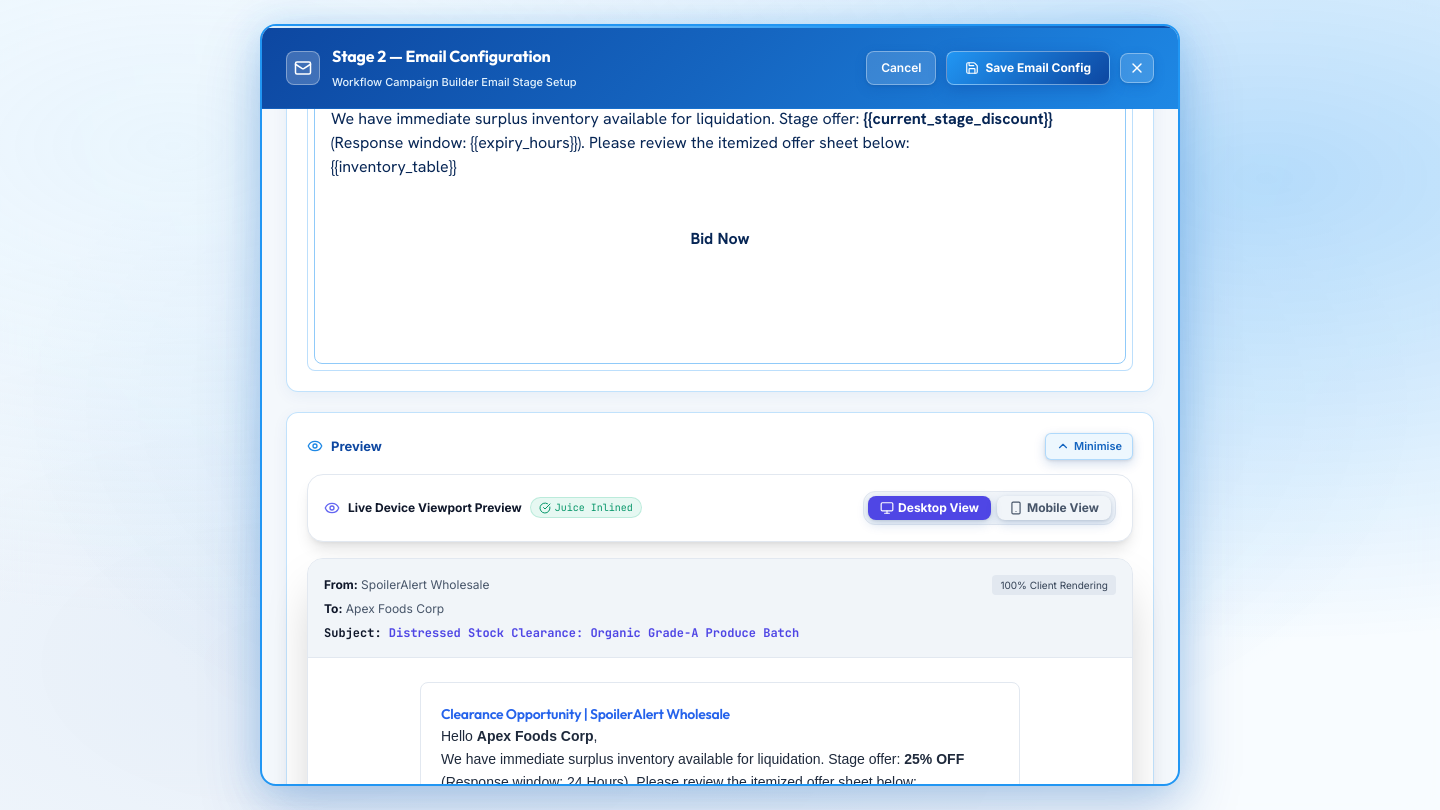
Test: StageEmailModal — Seam G: section minimise / expand toggles › minimise button toggles Preview section visibility
The image size is (1440, 810).
(page scrolled)
Note: Click to minimise
Click the button with test id "minimise-preview-btn": (1089, 446) x1=1045 y1=433 x2=1133 y2=460
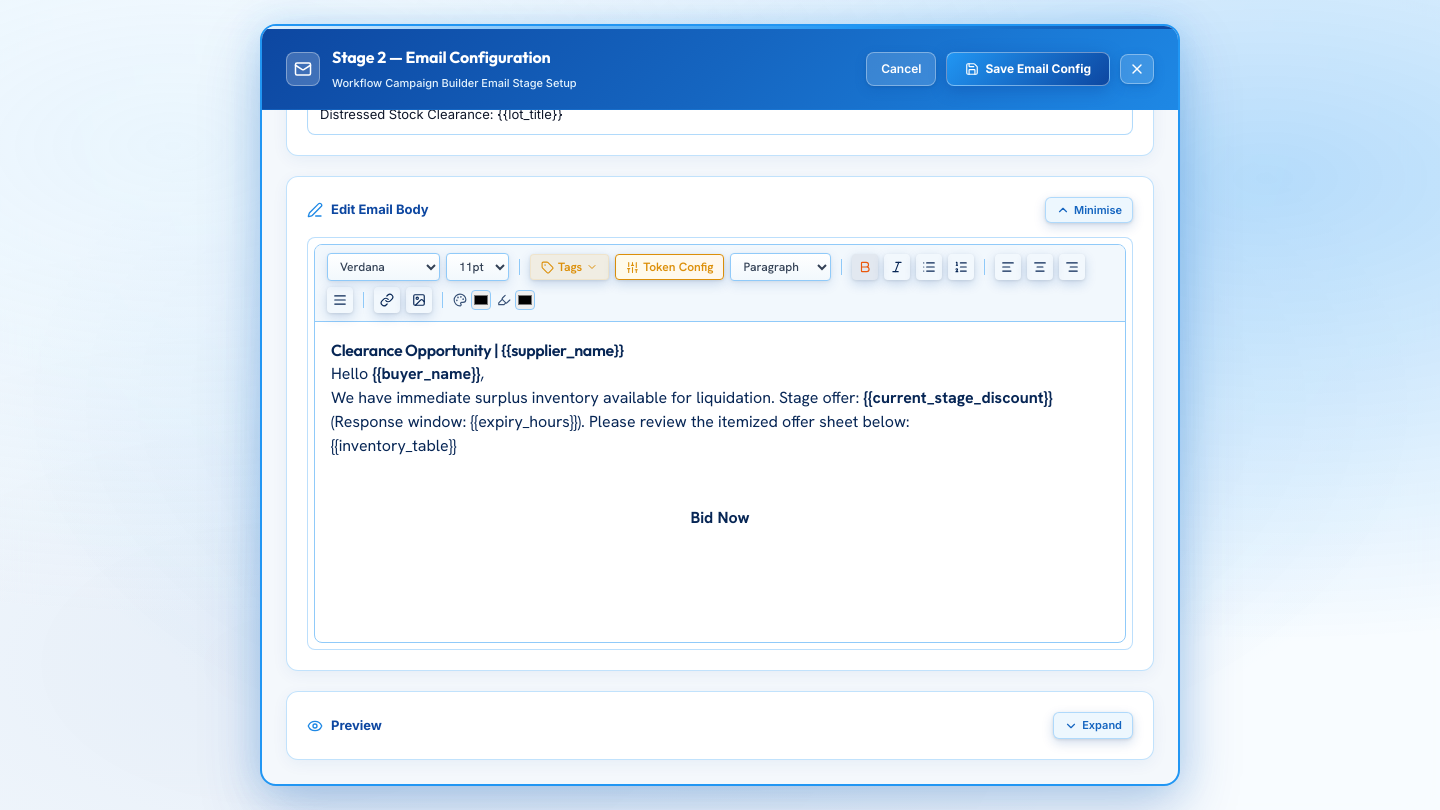
Now the button with test id "minimise-preview-btn" reads "Expand"
Note: Click again to expand
Click the button with test id "minimise-preview-btn": (1093, 726) x1=1053 y1=712 x2=1133 y2=739
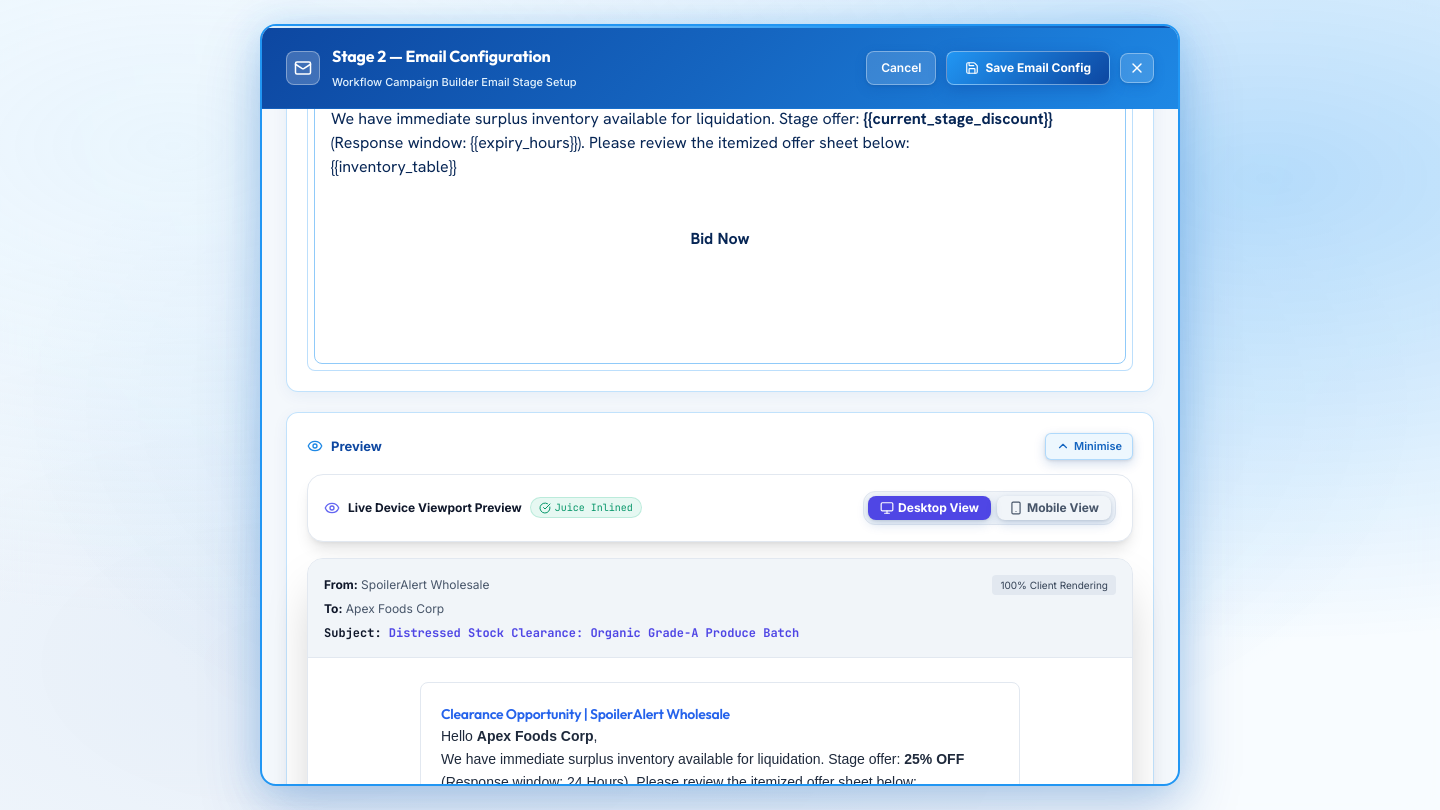
Now the button with test id "minimise-preview-btn" reads "Minimise", box x1=1045 y1=433 x2=1133 y2=460
